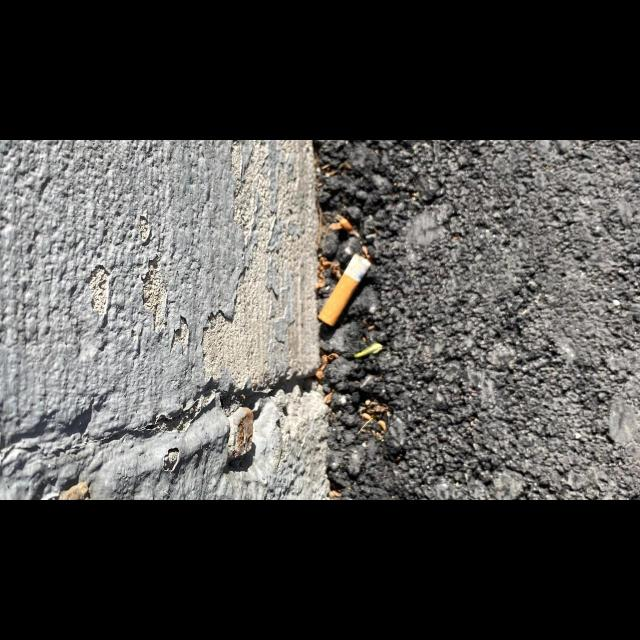cigarette: (316, 252, 372, 327)
